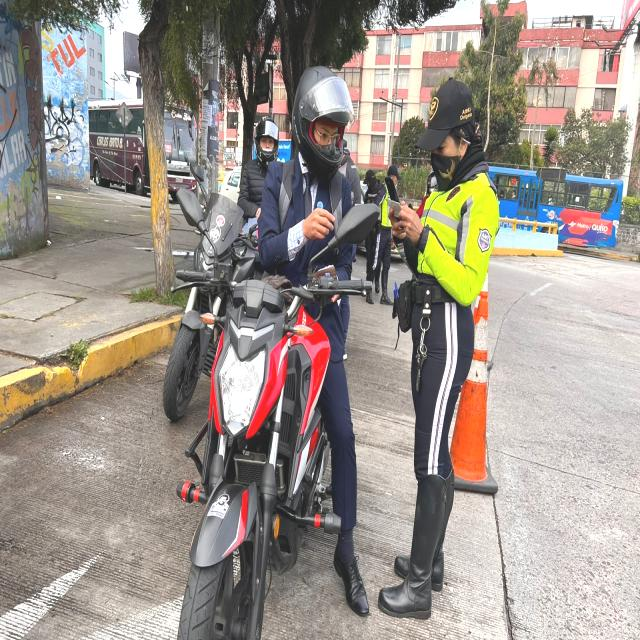MOTORCYCLE: (206, 269, 332, 632)
